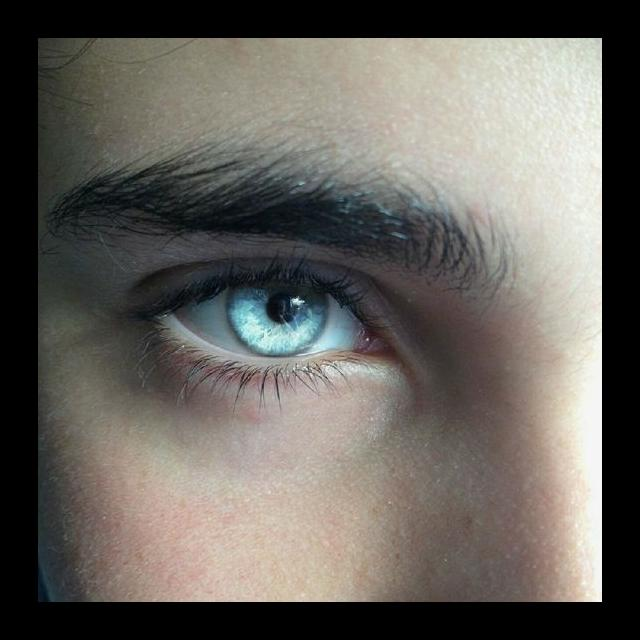eye: (179, 279, 368, 359)
iris: (229, 284, 332, 354)
